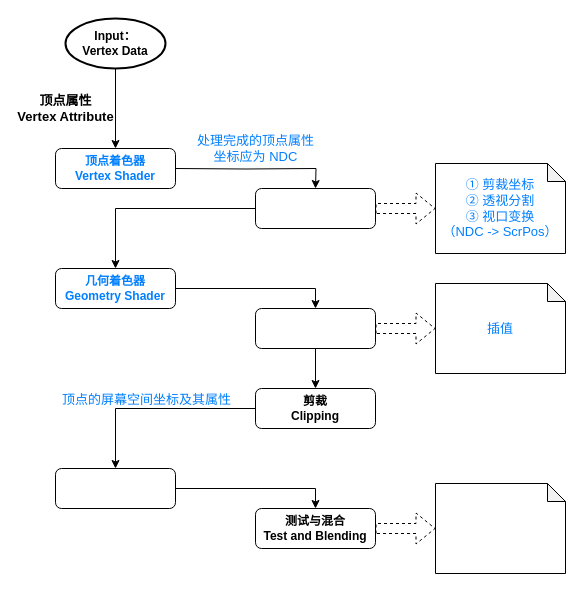
The diagram is 583 pixels wide and 591 high, and some of its shapes have lost their labels. The shapes that lost their labels are listed below. From the top down, each one's centre as x and y in pixels, then its label:
At [315,208]: "图元装配 Primitive Assembly".
At [315,328]: "光栅化 Rasterization".
At [115,488]: "片元着色器 Fragment Shader".
At [500,528]: "① 深度测试 ② stencil ③ 透明混合".
